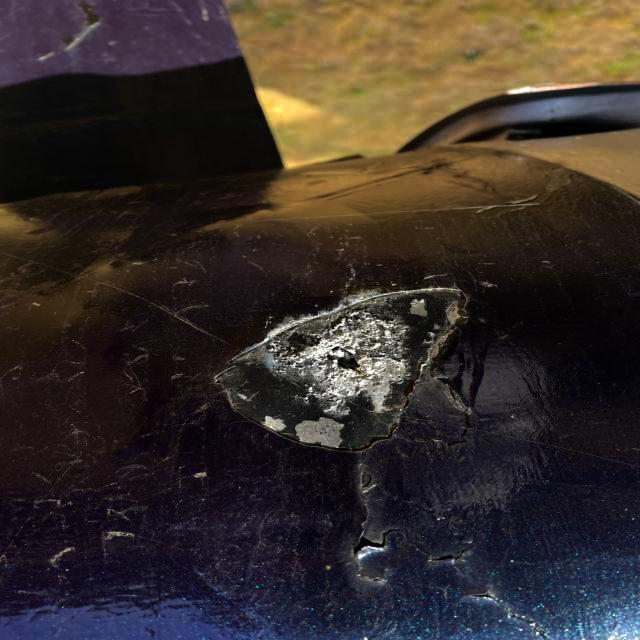crack: (336, 521, 494, 582), (462, 592, 538, 619)
dent: (195, 282, 477, 451)
